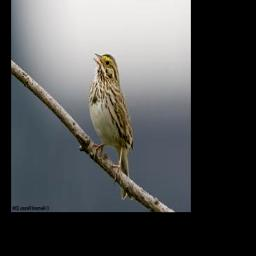Sparrow: (90, 50, 135, 202)
